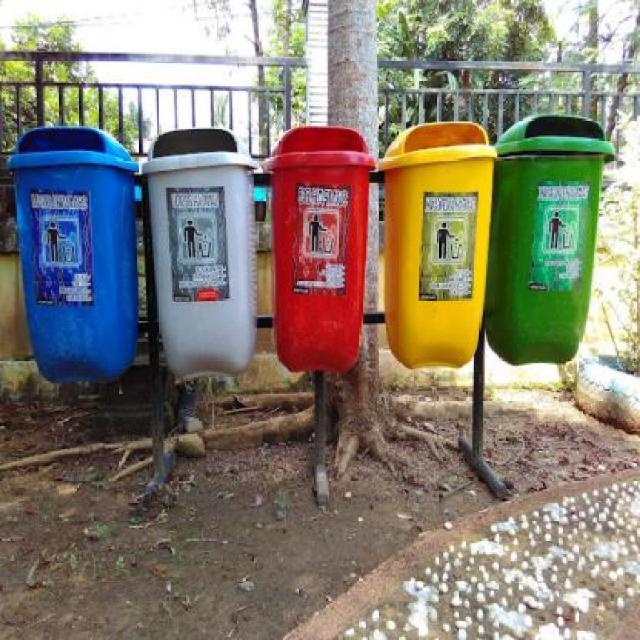garbage container: (2, 102, 142, 404), (140, 111, 265, 404), (488, 105, 620, 373), (254, 119, 377, 392), (376, 107, 492, 385)
